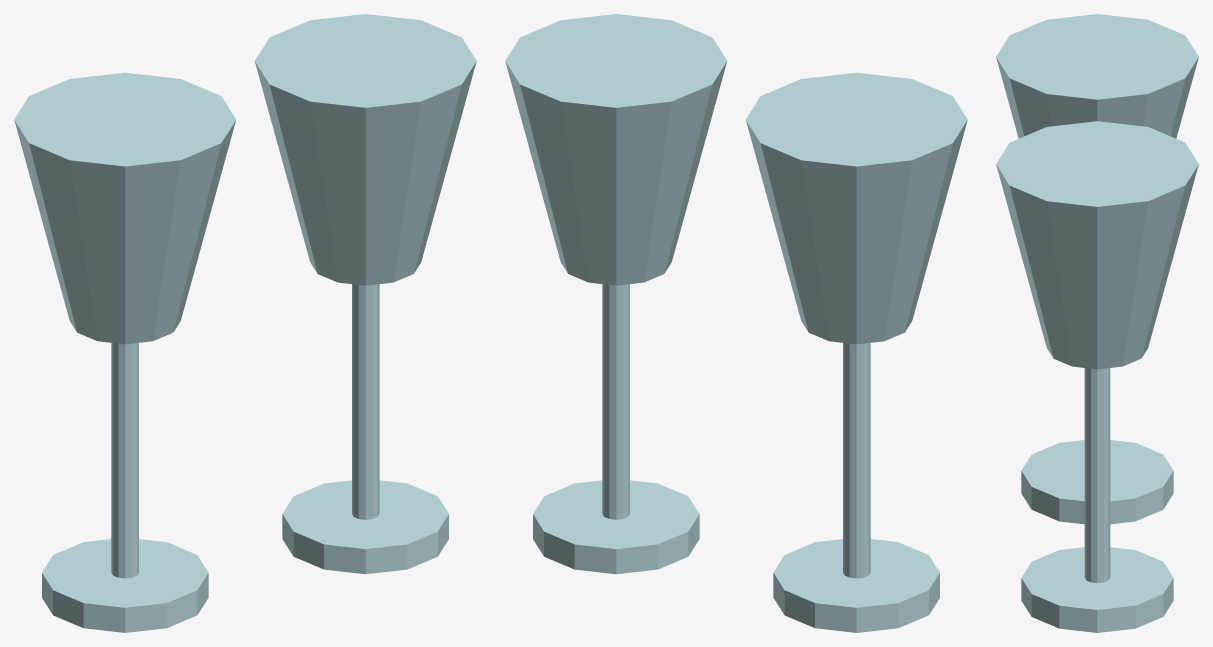
File: sm_product_wine_glasses.glb
The picture shows the model from 3 angles, left to right: view 1: azimuth 30°, elevation 25°; view 2: azimuth 150°, elevation 25°; view 3: azimuth 270°, elevation 25°; orthographic projection. The views are drawn at different scales.
Parts seen in each view (by area): view 1: wine_glasses_5, wine_glasses_2, wine_glasses_3, wine_glasses_0, wine_glasses_4, wine_glasses_1; view 2: wine_glasses_5, wine_glasses_2, wine_glasses_3, wine_glasses_0, wine_glasses_4, wine_glasses_1; view 3: wine_glasses_5, wine_glasses_2, wine_glasses_3, wine_glasses_0, wine_glasses_4.
Part boxes in pixels (x1,y1,x2,y2): wine_glasses_5: [254, 14, 476, 285]; wine_glasses_2: [14, 72, 236, 344]; wine_glasses_3: [282, 480, 448, 574]; wine_glasses_0: [42, 539, 208, 632]; wine_glasses_4: [352, 284, 379, 519]; wine_glasses_1: [111, 343, 138, 578]; wine_glasses_5: [505, 14, 727, 285]; wine_glasses_2: [745, 72, 967, 344]; wine_glasses_3: [533, 480, 699, 574]; wine_glasses_0: [773, 539, 939, 632]; wine_glasses_4: [602, 284, 629, 519]; wine_glasses_1: [843, 343, 870, 578]; wine_glasses_5: [996, 121, 1198, 369]; wine_glasses_2: [996, 14, 1198, 138]; wine_glasses_3: [1021, 547, 1173, 632]; wine_glasses_0: [1021, 440, 1173, 524]; wine_glasses_4: [1084, 368, 1110, 583].
Size of what is drawn, in the model's own units: 0.18 by 0.19 by 0.08.
